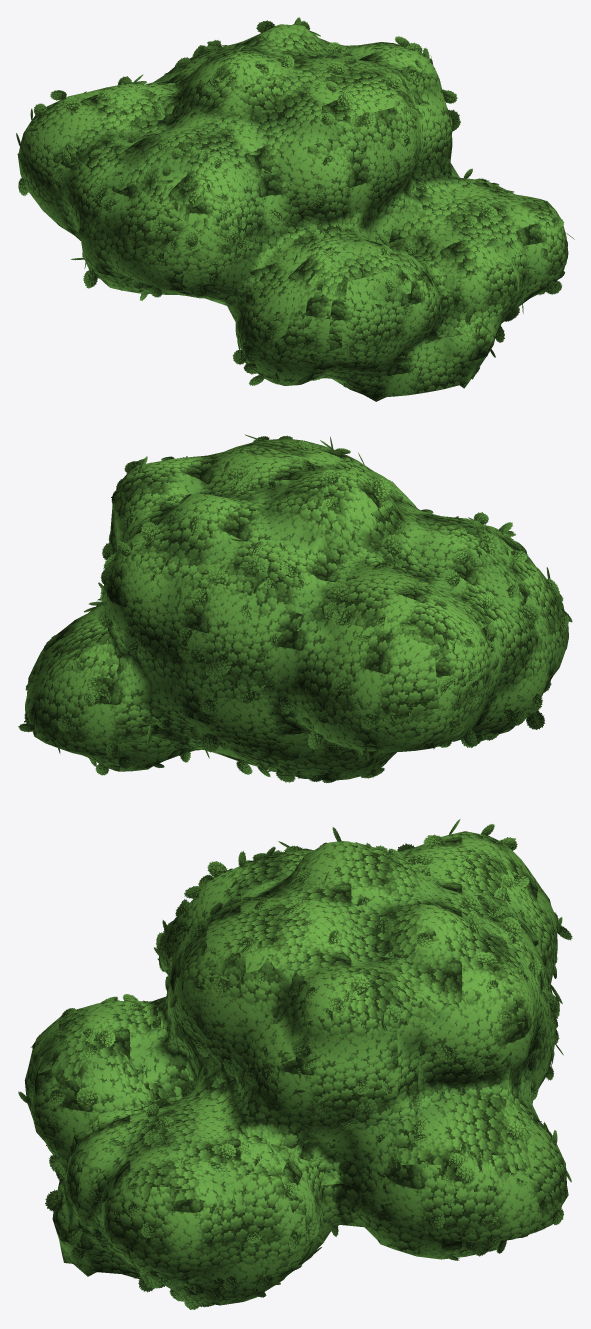
The model's file is ballbush_small.gltf.
3 renders of one model, top to bottom at view 1: azimuth 30°, elevation 25°; view 2: azimuth 150°, elevation 25°; view 3: azimuth 270°, elevation 25°, orthographic. The views are drawn at different scales.
Parts seen in each view (by area): view 1: ballbush_small_volume_LOD0, ballbush_small_leaves_LOD0; view 2: ballbush_small_volume_LOD0, ballbush_small_leaves_LOD0; view 3: ballbush_small_volume_LOD0, ballbush_small_leaves_LOD0.
Part boxes in pixels (x1,y1,x2,y2): ballbush_small_volume_LOD0: [18, 24, 568, 401]; ballbush_small_leaves_LOD0: [16, 17, 574, 387]; ballbush_small_volume_LOD0: [25, 439, 568, 780]; ballbush_small_leaves_LOD0: [18, 434, 572, 783]; ballbush_small_volume_LOD0: [24, 831, 568, 1305]; ballbush_small_leaves_LOD0: [18, 819, 572, 1309].
Size of what is drawn, in the model's own units: 1.24 by 0.8129 by 1.12.
2 materials, 2 textured.
